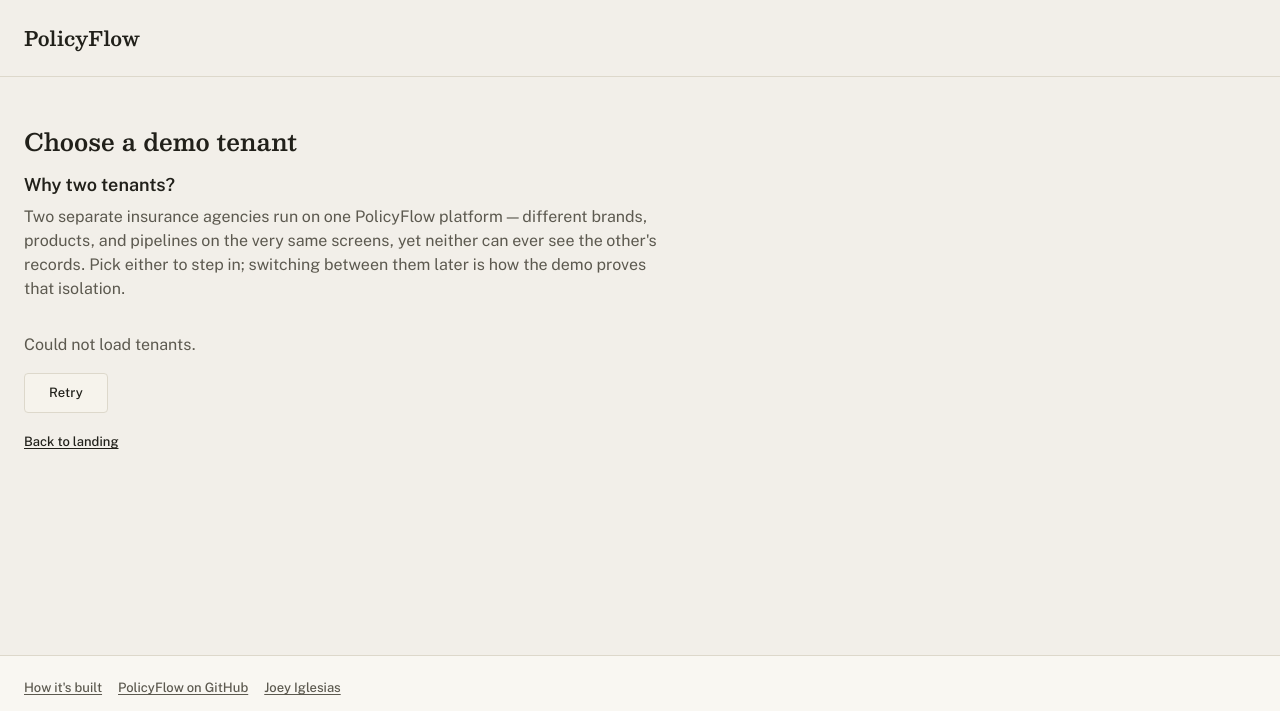
Test: select-tenant robust states › shows an error and retries the fetch when listTenants rejects
The image size is (1280, 711).
expect the text "Could not load tenants." is shown: met, box [24,335,196,354]
Click the button "Retry". click: (66, 393)
box: [24,373,108,413]
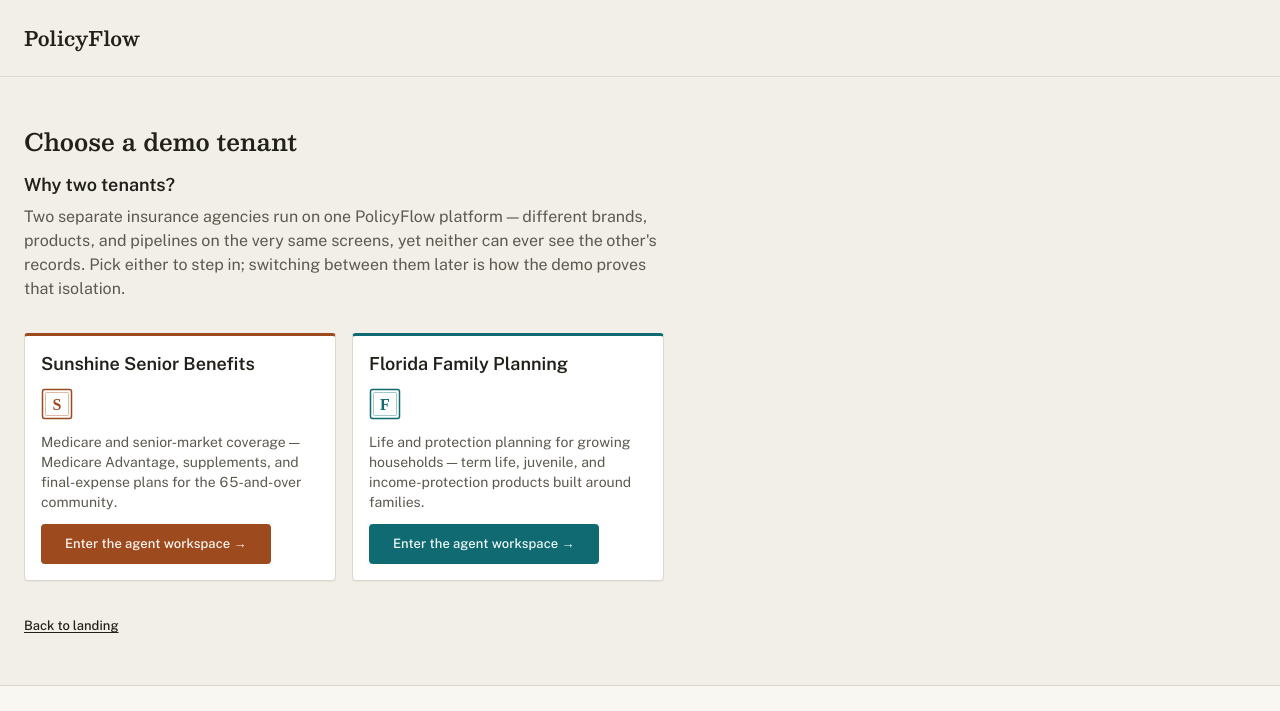
expect the element with id "select-tenant-card-sunshine-senior-benefits" is shown: met, box [24,333,336,581]
